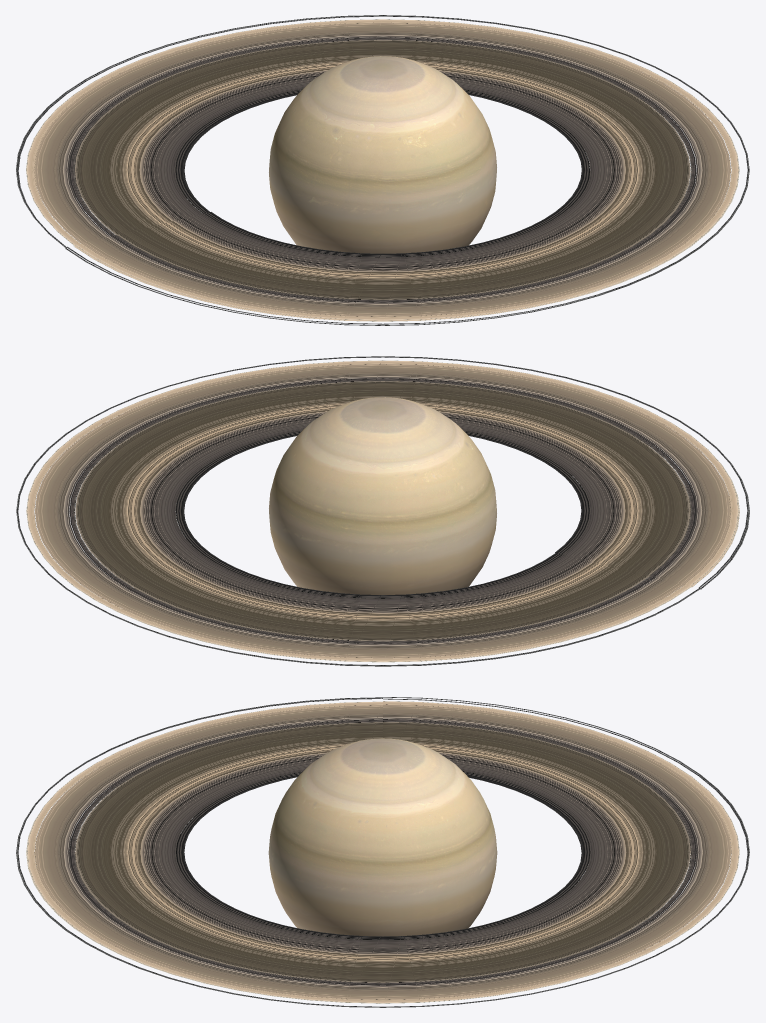
File: Saturn.FBX
The picture shows the model from 3 angles, top to bottom: view 1: azimuth 30°, elevation 25°; view 2: azimuth 150°, elevation 25°; view 3: azimuth 270°, elevation 25°; orthographic projection.
Visible parts, largest first — view 1: TopRing, Sphere002, BottomRing; view 2: TopRing, Sphere002, BottomRing; view 3: TopRing, Sphere002, BottomRing.
Boxes of the visible parts, <box> form: TopRing: <box>16,15,749,324</box>; Sphere002: <box>269,56,496,253</box>; BottomRing: <box>17,16,749,325</box>; TopRing: <box>16,356,748,665</box>; Sphere002: <box>269,397,496,594</box>; BottomRing: <box>18,357,749,666</box>; TopRing: <box>16,697,749,1007</box>; Sphere002: <box>268,738,497,936</box>; BottomRing: <box>16,698,747,1007</box>.
Bounding box in the file's own units: 161 × 50 × 161.
Materials: 2 (2 with a texture image).
